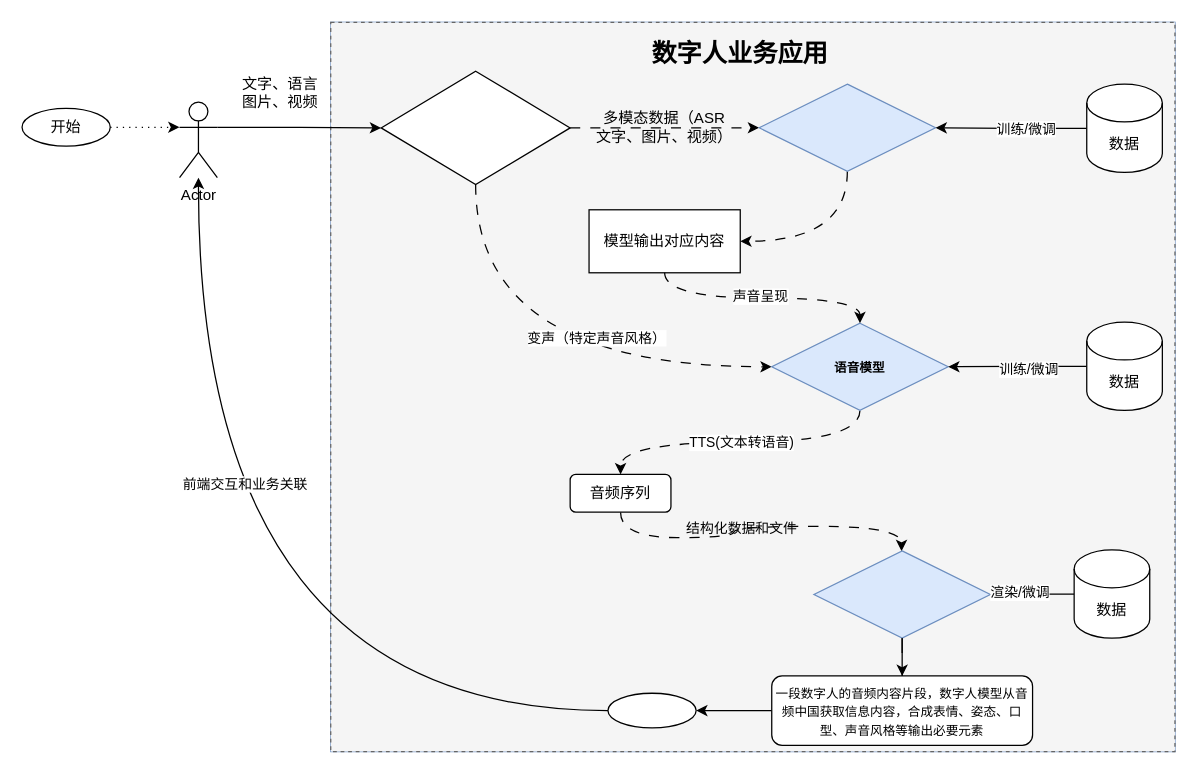
The diagram is 1197 pixels wide and 774 high, and some of its shapes have lost their labels. The box of each missing label's shape, as (x1, y1, x2, y2) in pixels:
大语言模型 （中枢模型）: (758, 83, 936, 171)
数字人引擎: (813, 550, 990, 638)
结束: (607, 692, 696, 728)
预处理 （人类输入转化成大模型接受形式）: (380, 70, 570, 185)
